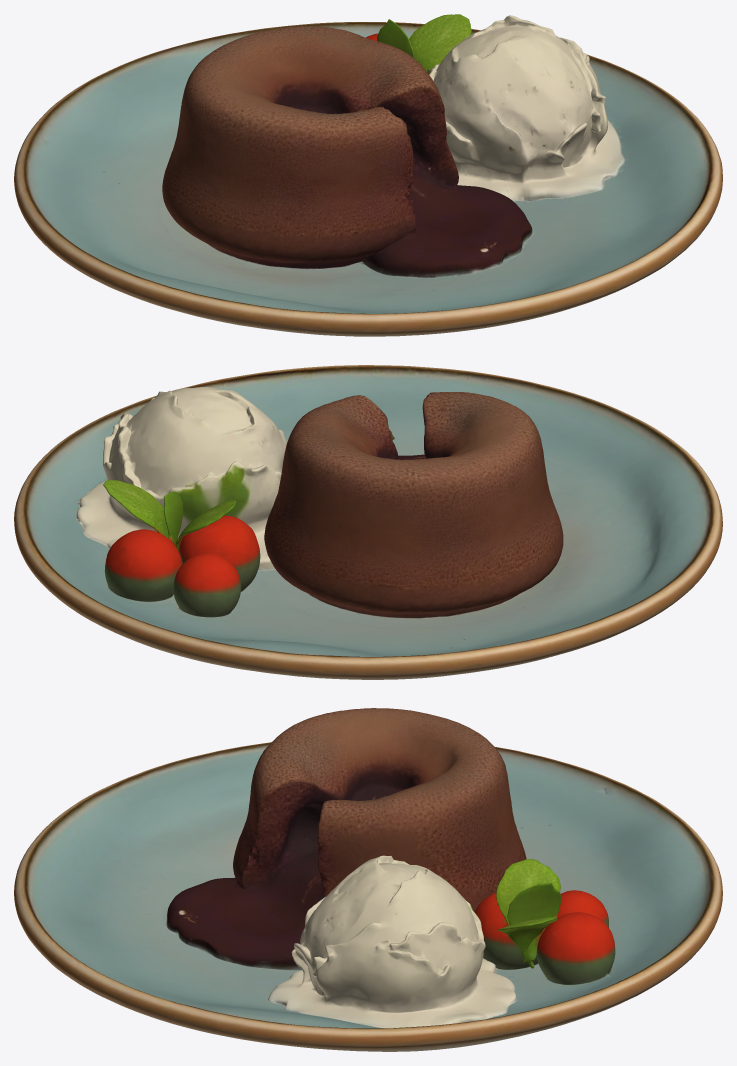
The model's file is CAKE.glb.
3 renders of one model, top to bottom at view 1: azimuth 30°, elevation 25°; view 2: azimuth 150°, elevation 25°; view 3: azimuth 270°, elevation 25°, orthographic.
Parts seen in each view (by area): view 1: tripo_node_2ca209b4-563e-4c51-8c87-54422f74c719; view 2: tripo_node_2ca209b4-563e-4c51-8c87-54422f74c719; view 3: tripo_node_2ca209b4-563e-4c51-8c87-54422f74c719.
Part boxes in pixels (x1,y1,x2,y2): tripo_node_2ca209b4-563e-4c51-8c87-54422f74c719: (14,14,722,336); tripo_node_2ca209b4-563e-4c51-8c87-54422f74c719: (14,365,722,679); tripo_node_2ca209b4-563e-4c51-8c87-54422f74c719: (14,708,722,1051).
Bounding box in the file's own units: 1 × 0.2624 × 0.9971.
1 material, 1 textured.
